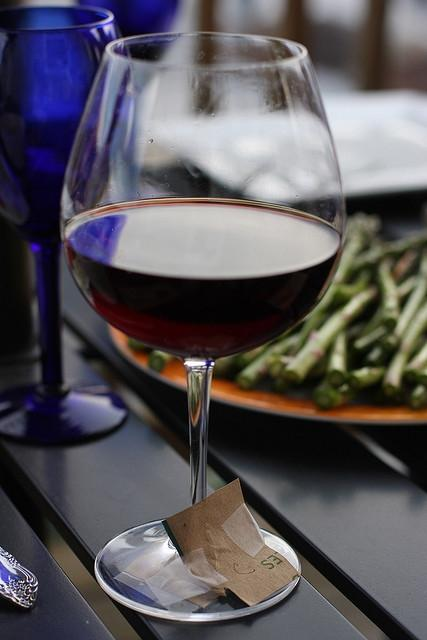asparagus: (274, 214, 382, 388), (285, 284, 378, 382), (380, 300, 426, 398), (237, 332, 300, 391), (351, 228, 427, 272), (235, 328, 292, 369), (393, 272, 422, 340), (376, 256, 400, 334), (311, 376, 362, 410), (265, 351, 329, 378), (326, 326, 348, 388), (351, 325, 394, 351), (402, 342, 427, 382), (347, 366, 388, 388), (213, 352, 240, 377), (147, 348, 175, 372), (380, 347, 400, 380), (365, 339, 389, 366), (408, 383, 424, 411), (272, 378, 295, 395), (129, 338, 155, 352)
